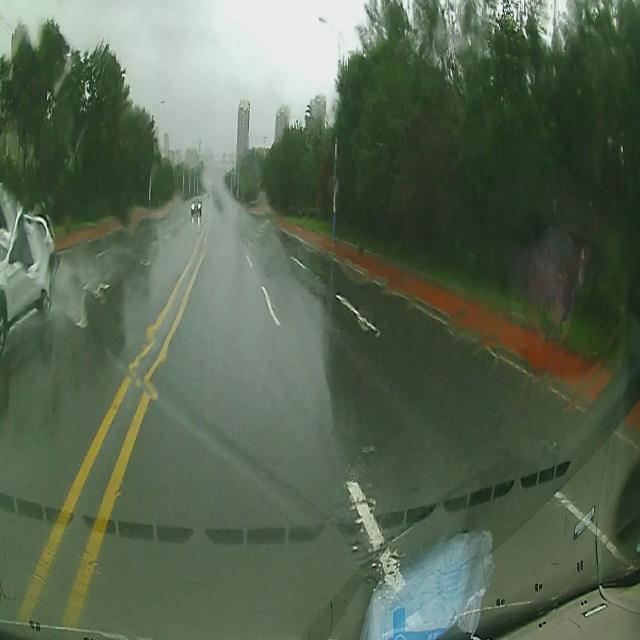car: (0, 206, 56, 348), (190, 198, 203, 219)
